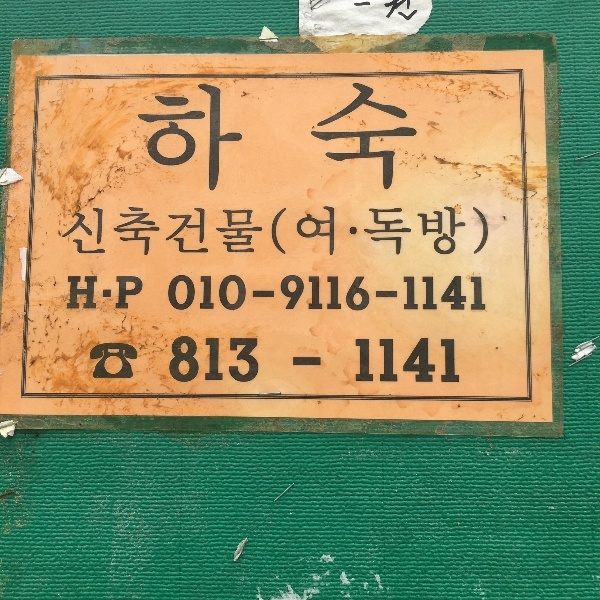text: (321, 81, 336, 194), (337, 81, 352, 194), (353, 81, 368, 194), (369, 81, 384, 194), (385, 81, 400, 194), (401, 81, 416, 194), (145, 83, 160, 195), (161, 83, 176, 195), (177, 83, 192, 195), (193, 83, 208, 195), (209, 83, 224, 195), (225, 83, 240, 195), (81, 204, 96, 259), (97, 204, 112, 259), (113, 204, 128, 259), (129, 204, 144, 259), (145, 204, 160, 259), (161, 204, 176, 259), (177, 204, 192, 259), (193, 204, 208, 259), (209, 204, 224, 259), (225, 204, 240, 259), (241, 204, 256, 259), (257, 204, 272, 259), (273, 204, 288, 259), (289, 204, 304, 259), (305, 204, 320, 259), (321, 204, 336, 259), (337, 204, 352, 259), (353, 204, 368, 259), (369, 204, 384, 259), (385, 204, 400, 259), (401, 204, 416, 259), (417, 204, 432, 259), (433, 204, 448, 259), (449, 204, 464, 259), (465, 204, 480, 259), (177, 337, 192, 384), (193, 337, 208, 384), (209, 337, 224, 384), (225, 337, 240, 384), (241, 337, 256, 384), (369, 338, 384, 384), (385, 338, 400, 384), (401, 338, 416, 384), (417, 338, 432, 384), (433, 338, 448, 384), (314, 81, 320, 194), (138, 83, 144, 195), (68, 204, 80, 259), (355, 338, 368, 384), (177, 275, 192, 313), (193, 275, 208, 313), (209, 275, 224, 313), (225, 275, 240, 313), (241, 275, 256, 313), (257, 275, 272, 313), (273, 275, 288, 313), (289, 275, 304, 313), (305, 275, 320, 313), (321, 275, 336, 313), (337, 275, 352, 313), (353, 275, 368, 313), (369, 275, 384, 313), (385, 275, 400, 313), (401, 275, 416, 313), (417, 275, 432, 313), (433, 275, 448, 313), (449, 275, 464, 313), (465, 275, 480, 313), (81, 275, 96, 312), (97, 275, 112, 312), (113, 275, 128, 312), (129, 275, 144, 312), (449, 338, 461, 384), (67, 275, 80, 312), (481, 204, 489, 259), (417, 81, 420, 194), (241, 83, 244, 195), (168, 275, 176, 313), (171, 337, 176, 384), (481, 275, 487, 313), (305, 356, 320, 368), (292, 356, 304, 368), (257, 337, 259, 384), (321, 356, 322, 368)
